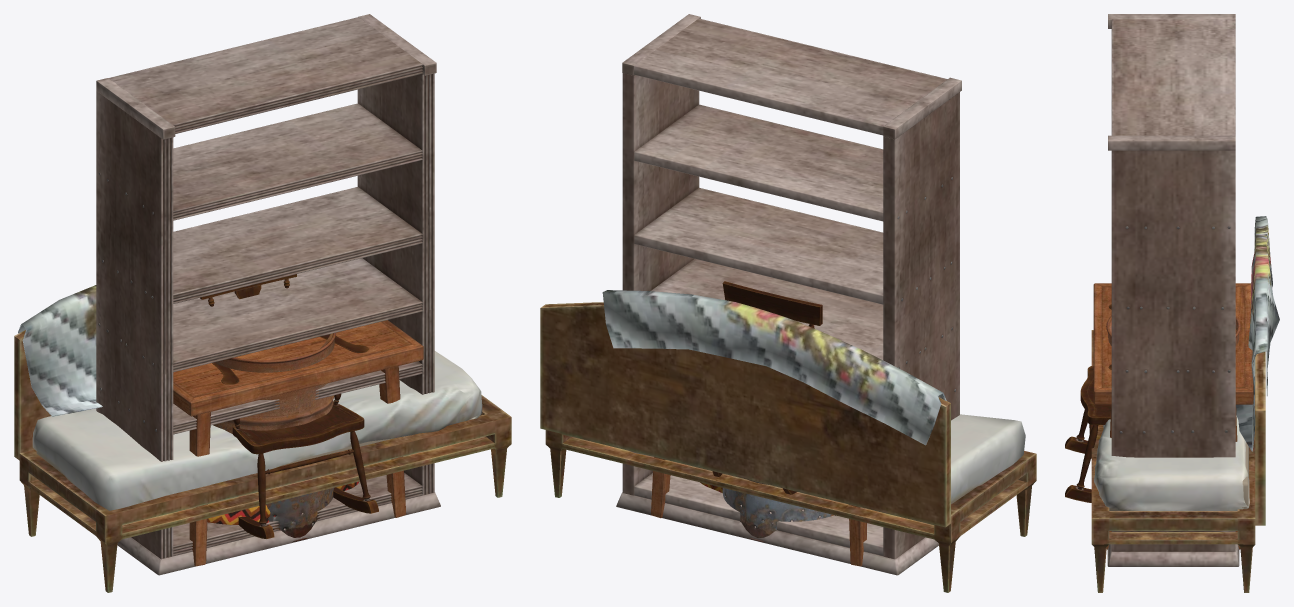
The model's file is cabin_interior_lite.glb.
The picture shows the model from 3 angles, left to right: view 1: azimuth 30°, elevation 25°; view 2: azimuth 150°, elevation 25°; view 3: azimuth 270°, elevation 25°; orthographic projection. The views are drawn at different scales.
Parts seen in each view (by area): view 1: wooden_bookshelf_worn, vintage_day_bed, wooden_table_02, Rockingchair_01, barrel_stove; view 2: wooden_bookshelf_worn, vintage_day_bed, barrel_stove, Rockingchair_01, wooden_table_02; view 3: wooden_bookshelf_worn, vintage_day_bed, wooden_table_02, Rockingchair_01.
Part boxes in pixels (<box>): wooden_bookshelf_worn: <box>96,14,440,575</box>; vintage_day_bed: <box>14,285,511,592</box>; wooden_table_02: <box>173,320,423,566</box>; Rockingchair_01: <box>200,274,378,538</box>; barrel_stove: <box>213,332,335,541</box>; wooden_bookshelf_worn: <box>616,14,961,575</box>; vintage_day_bed: <box>540,290,1036,592</box>; barrel_stove: <box>722,480,833,542</box>; Rockingchair_01: <box>712,281,822,494</box>; wooden_table_02: <box>651,457,866,566</box>; wooden_bookshelf_worn: <box>1107,14,1239,566</box>; vintage_day_bed: <box>1091,216,1279,592</box>; wooden_table_02: <box>1093,283,1253,549</box>; Rockingchair_01: <box>1065,304,1111,502</box>.
Size of the model in its own units: 1.97 by 2.07 by 0.9485.
Materials: 10 (10 with a texture image).
